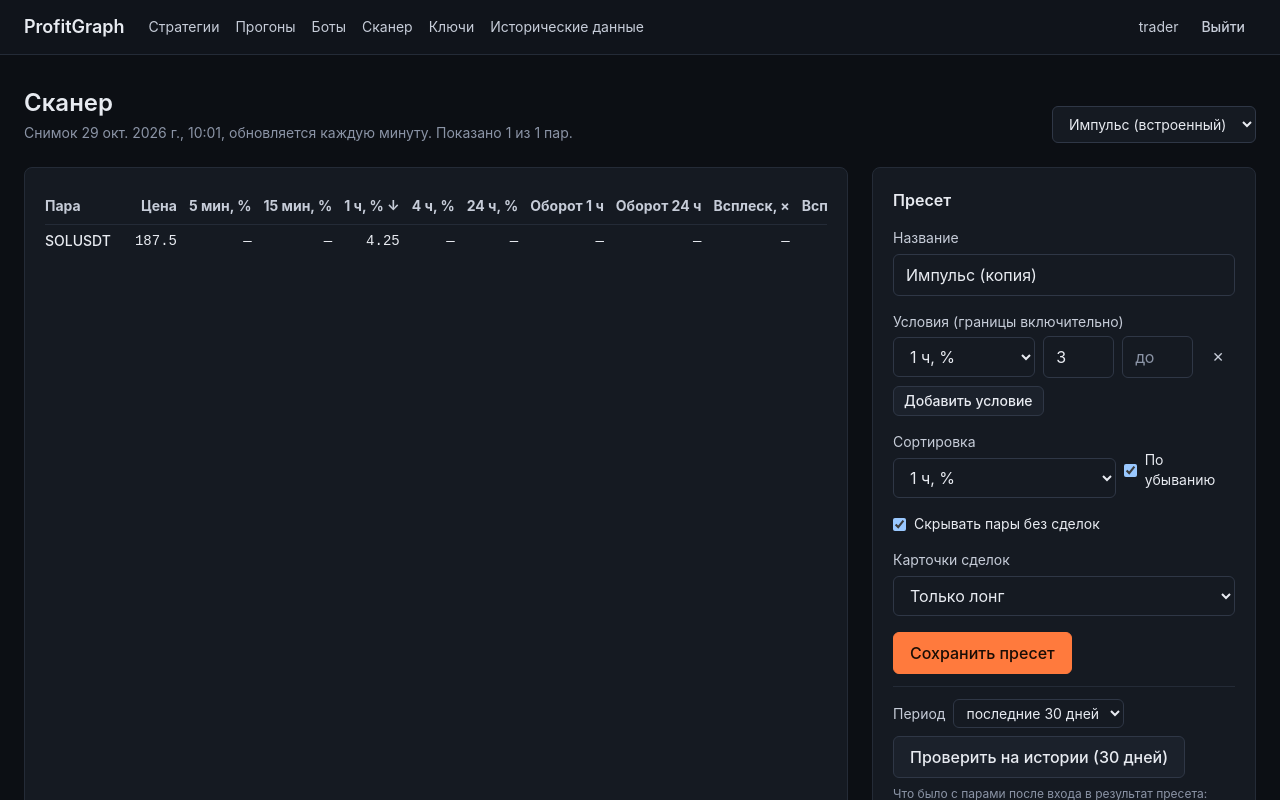
Test case: scanner page › opens a pair chart from its row and switches the timeframe
The image size is (1280, 800).
Click the link "SOLUSDT": (78,240) [45, 232, 111, 249]
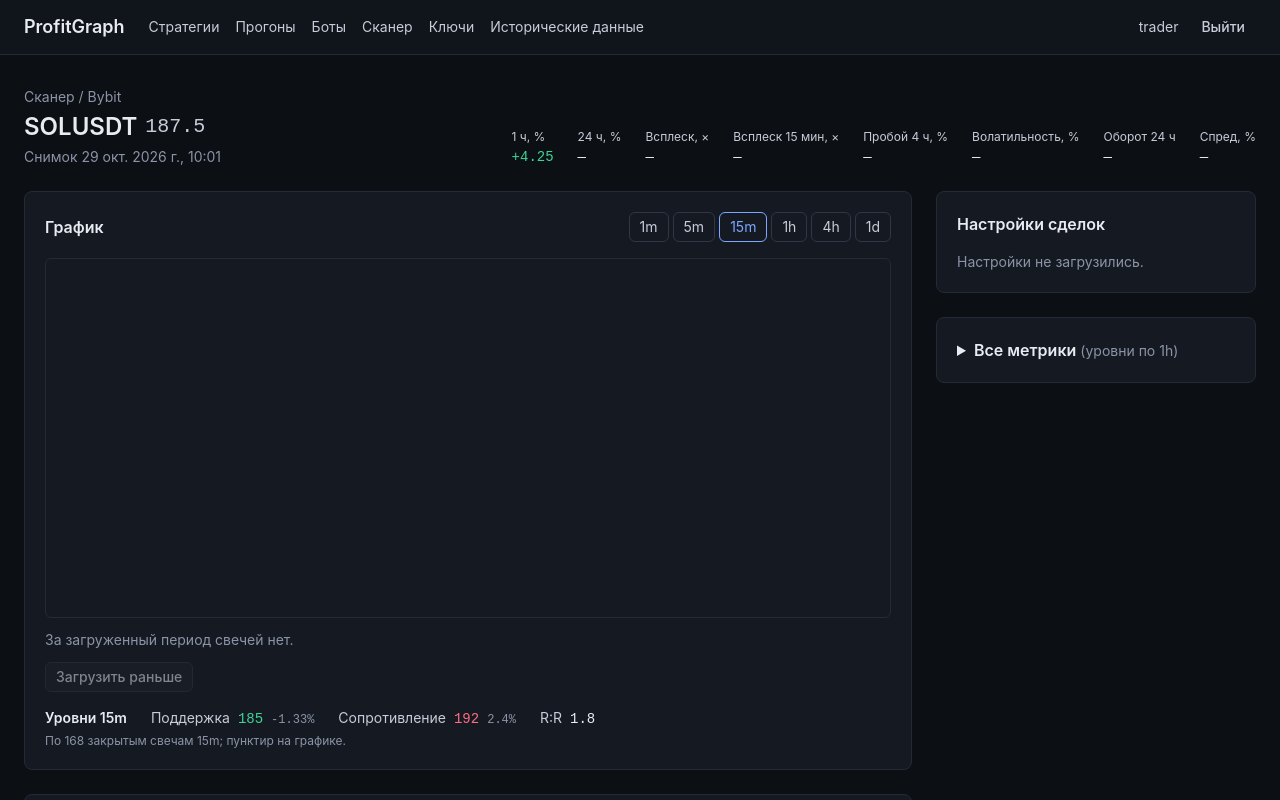
Result: the heading "SOLUSDT" is shown at [24, 111, 137, 143]
Result: the text "+4.25" is shown at [512, 147, 554, 167]
Result: the text "1.8" is shown at [570, 709, 595, 729]
Click the link "1h": (789,227) [771, 212, 807, 242]
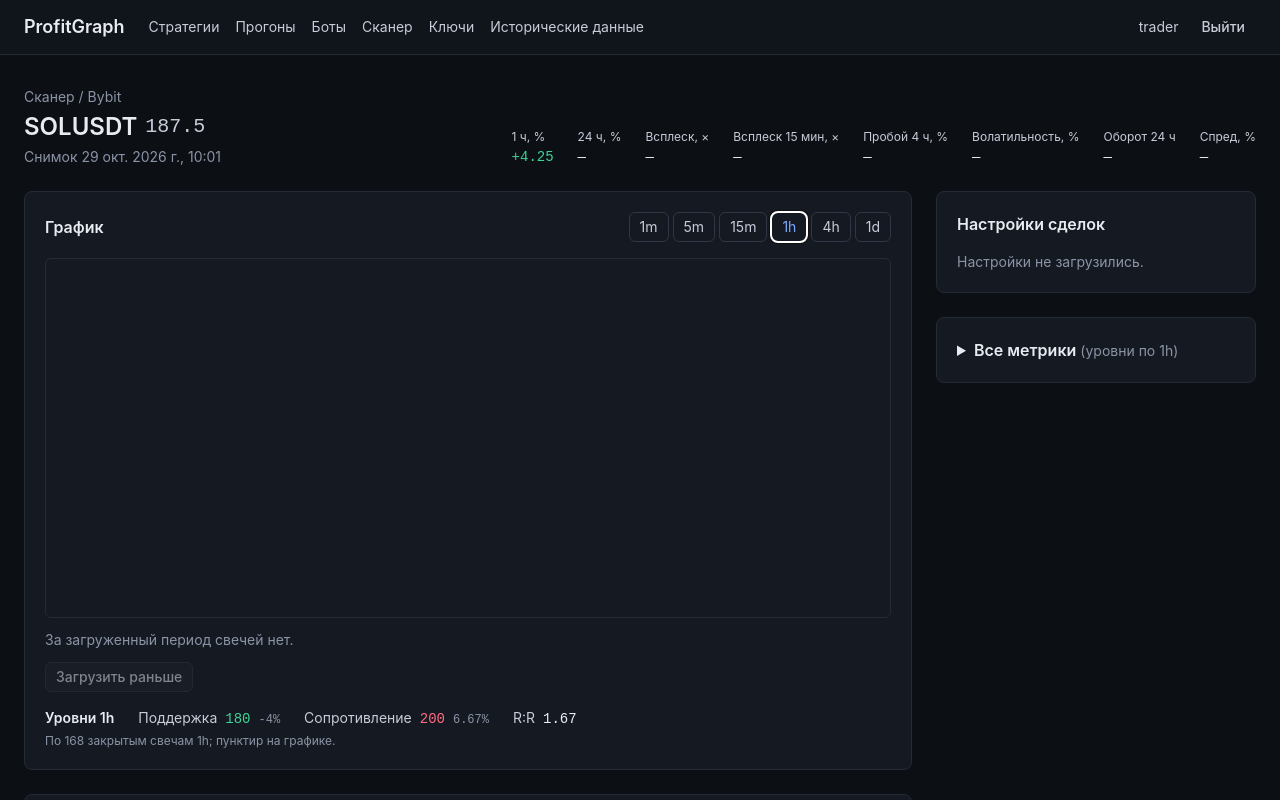
Result: the text "1.67" is shown at [543, 709, 577, 729]
Result: the text "200" is shown at [420, 709, 445, 729]
